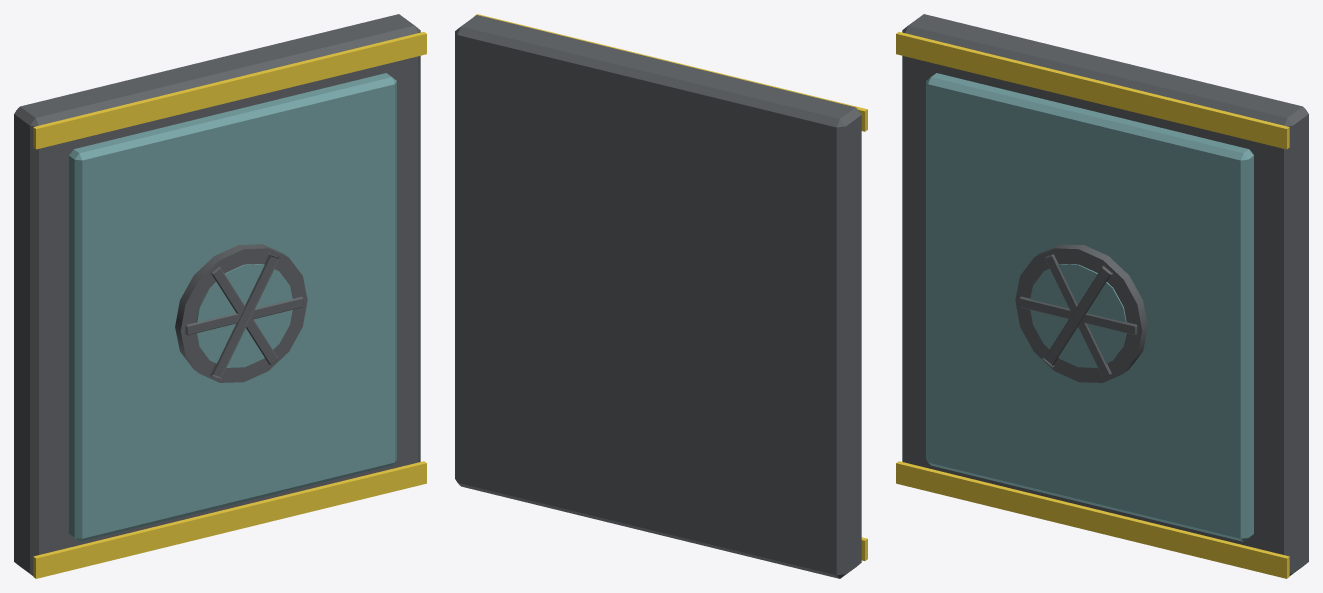
File: maintenance_hatch.glb
3 views of the same model, side by side, from view 1: azimuth 30°, elevation 25°; view 2: azimuth 150°, elevation 25°; view 3: azimuth 330°, elevation 25° (orthographic).
Parts seen in each view (by area): view 1: maintenance_hatch; view 2: maintenance_hatch; view 3: maintenance_hatch.
Boxes of the visible parts, <box> form: maintenance_hatch: <box>14,14,426,578</box>; maintenance_hatch: <box>455,14,867,578</box>; maintenance_hatch: <box>896,14,1308,578</box>.
Size of the model in its own units: 0.8 by 0.9 by 0.142.
